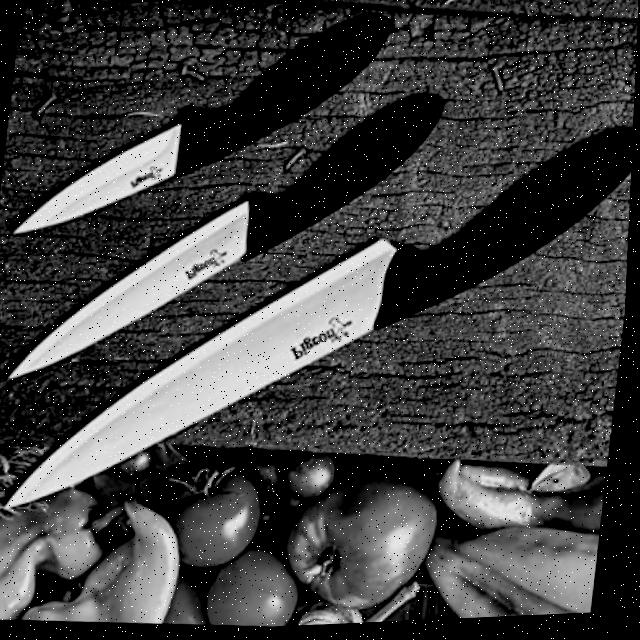knife: (5, 89, 636, 554), (4, 65, 447, 408), (13, 0, 400, 263)
